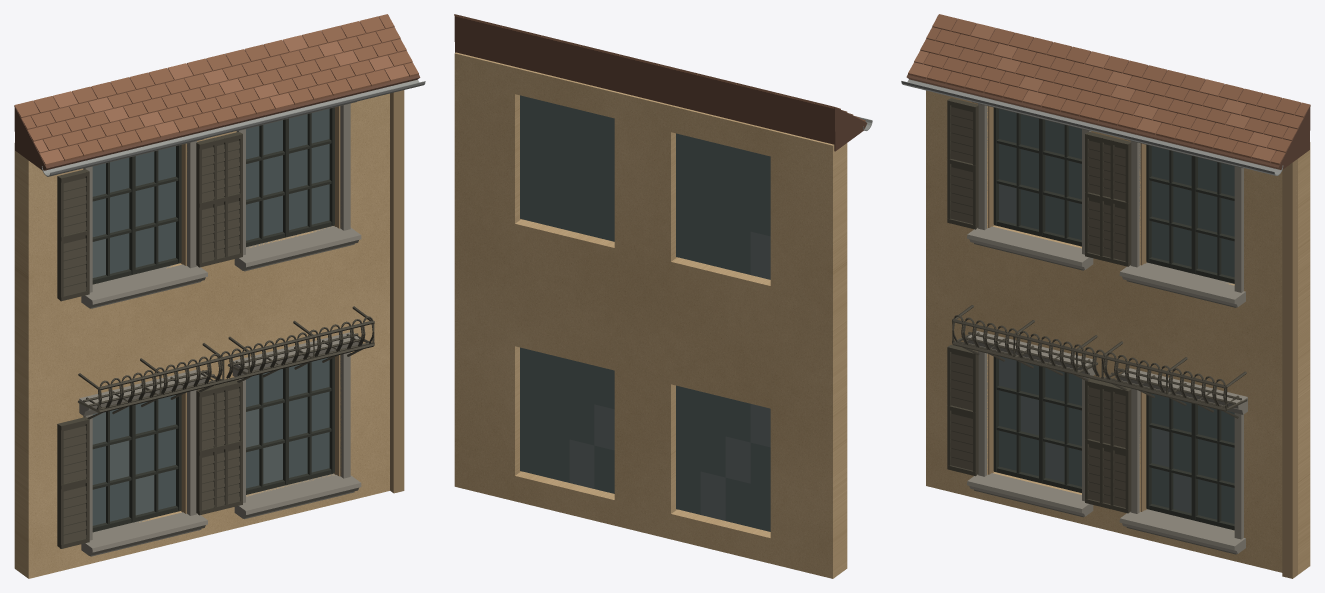
The model's file is changning-shengshi-garden-paired-windows-lod.glb.
3 views of the same model, side by side, from view 1: azimuth 30°, elevation 25°; view 2: azimuth 150°, elevation 25°; view 3: azimuth 330°, elevation 25° (orthographic). The views are drawn at different scales.
Visible parts, largest first — view 1: 盛世花园临街双联钢窗与铁花架; view 2: 盛世花园临街双联钢窗与铁花架; view 3: 盛世花园临街双联钢窗与铁花架.
Boxes of the visible parts, box(x1,y1,x2,y2) form: 盛世花园临街双联钢窗与铁花架: box(14, 14, 425, 578); 盛世花园临街双联钢窗与铁花架: box(454, 14, 872, 578); 盛世花园临街双联钢窗与铁花架: box(901, 14, 1310, 578).
Bounding box in the file's own units: 3.91 × 4.63 × 0.679.
Materials: 14 (1 with a texture image).
